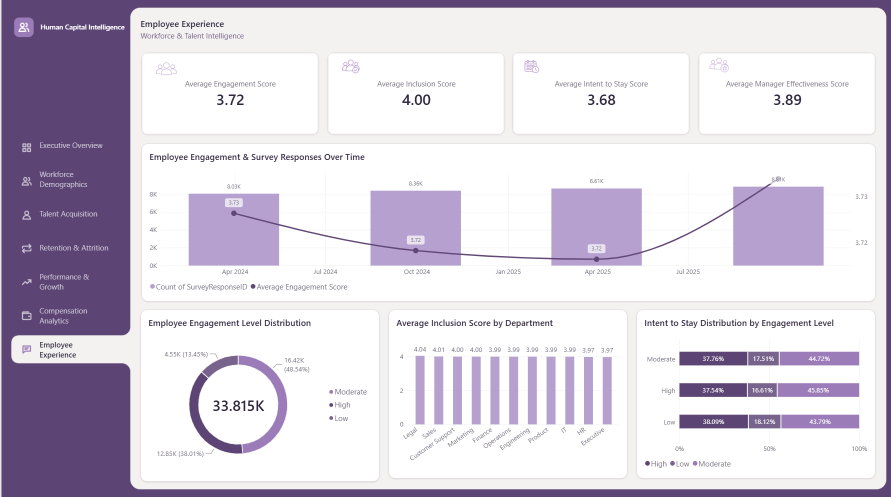

What the dashboard file says about the page in this screenshot:
{"tool":"powerbi","page":{"name":"Employee Experience","canvas":[1920,1080],"ordinal":7},"visuals":[{"type":"lineClusteredColumnComboChart","title":"Employee Engagement & Survey Responses Over Time","fields":{"Category":["fact_engagement_surveys.SurveyDate"],"Y":["CountNonNull(fact_engagement_surveys.SurveyResponseID)"],"Y2":["fact_engagement_surveys.Average Engagement Score"]},"box":[300,315,1572.9,338.6],"z":0},{"type":"hundredPercentStackedBarChart","title":"Intent to Stay Distribution by Engagement Level","fields":{"Category":["fact_engagement_surveys.Engagement Level"],"Series":["fact_engagement_surveys.Intent to Stay Level"],"Y":["CountNonNull(fact_engagement_surveys.SurveyResponseID)"]},"box":[1360.7,670.7,512.1,362.1],"z":1000},{"type":"textbox","title":"Company","box":[83,54,266,25],"z":2000},{"type":"textbox","title":"Page title","box":[298,45,257,32],"z":3000},{"type":"textbox","title":"Subtitle","box":[298,73,340,27],"z":4000},{"type":"pageNavigator","title":"Page navigation","box":[82,294,150,492],"z":5000},{"type":"cardVisual","title":"KPI card 1","fields":{"Data":["fact_engagement_surveys.Average Engagement Score"]},"box":[300,120,379,176],"z":6000},{"type":"cardVisual","title":"KPI card 2","fields":{"Data":["fact_engagement_surveys.Average Inclusion Score"]},"box":[698,120,379,176],"z":7000},{"type":"cardVisual","title":"KPI card 3","fields":{"Data":["fact_engagement_surveys.Average Intent to Stay Score"]},"box":[1095,120,379,176],"z":8000},{"type":"cardVisual","title":"KPI card 4","fields":{"Data":["fact_engagement_surveys.Average Manager Effectiveness Score"]},"box":[1493,120,379,176],"z":9000},{"type":"donutChart","title":"Employee Engagement Level Distribution","fields":{"Category":["fact_engagement_surveys.Engagement Level"],"Y":["CountNonNull(fact_engagement_surveys.SurveyResponseID)"]},"box":[297.9,670.7,512,369],"z":10000},{"type":"clusteredColumnChart","title":"Average Inclusion Score by Department","fields":{"Category":["dim_departments.DepartmentName"],"Y":["fact_engagement_surveys.Average Inclusion Score"]},"box":[829.3,670.7,512.1,362.1],"z":11000},{"type":"image","box":[698.6,120,100,60],"z":12000},{"type":"image","box":[1086.4,120,100,60],"z":13000},{"type":"image","box":[1493.6,120,85.7,45],"z":13001},{"type":"image","box":[291.4,111.4,115.7,77.1],"z":13002}]}

Visuals, with their boxes on the page's 1920x1080 design canvas (x1, y1, x2, y2). These are canvas units, not pixel positions in the 891x497 screenshot, which may show the page scaled, cropped or inside an application window:
"Employee Engagement & Survey Responses Over Time" lineClusteredColumnComboChart: (300, 315, 1873, 654)
"Intent to Stay Distribution by Engagement Level" hundredPercentStackedBarChart: (1361, 671, 1873, 1033)
"Company" textbox: (83, 54, 349, 79)
"Page title" textbox: (298, 45, 555, 77)
"Subtitle" textbox: (298, 73, 638, 100)
"Page navigation" pageNavigator: (82, 294, 232, 786)
"KPI card 1" cardVisual: (300, 120, 679, 296)
"KPI card 2" cardVisual: (698, 120, 1077, 296)
"KPI card 3" cardVisual: (1095, 120, 1474, 296)
"KPI card 4" cardVisual: (1493, 120, 1872, 296)
"Employee Engagement Level Distribution" donutChart: (298, 671, 810, 1040)
"Average Inclusion Score by Department" clusteredColumnChart: (829, 671, 1341, 1033)
image: (699, 120, 799, 180)
image: (1086, 120, 1186, 180)
image: (1494, 120, 1579, 165)
image: (291, 111, 407, 188)
